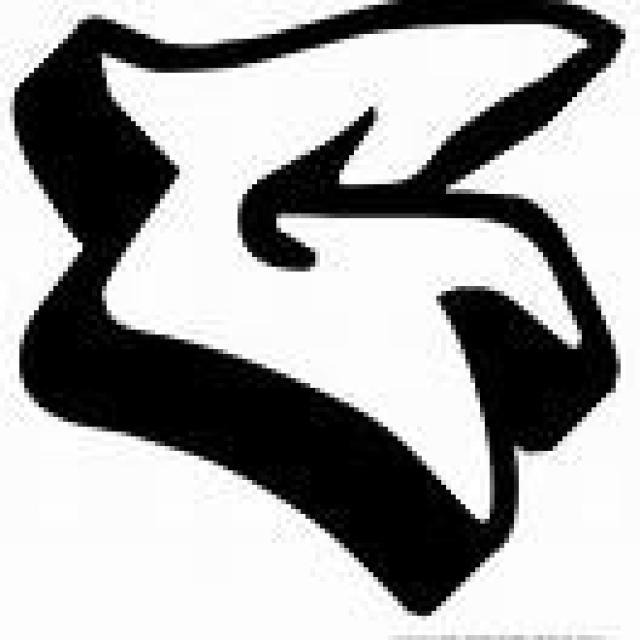nonspitting: (9, 0, 624, 621)
